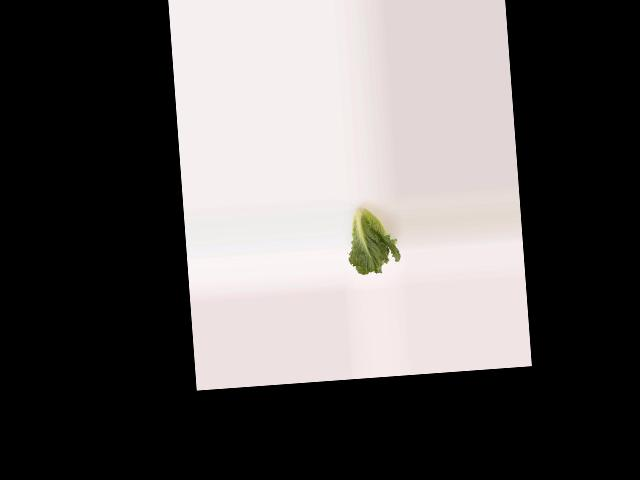lettuce: (343, 198, 399, 278)
